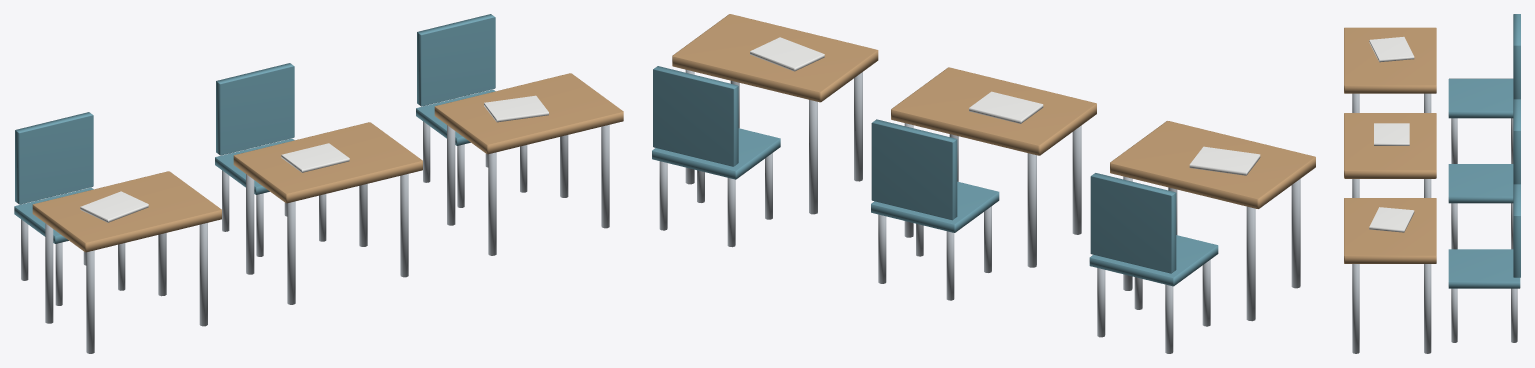
The model's file is SM_School_StudentDeskRow.fbx.
3 renders of one model, left to right at view 1: azimuth 30°, elevation 25°; view 2: azimuth 150°, elevation 25°; view 3: azimuth 270°, elevation 25°, orthographic. The views are drawn at different scales.
Parts seen in each view (by area): view 1: SM_School_StudentDeskRow; view 2: SM_School_StudentDeskRow; view 3: SM_School_StudentDeskRow.
Boxes of the visible parts, x1,y1,x2,y2 form: SM_School_StudentDeskRow: (14,14,623,353); SM_School_StudentDeskRow: (652,14,1315,353); SM_School_StudentDeskRow: (1344,14,1520,353).
Size of the model in its own units: 3.62 by 0.95 by 1.19.
